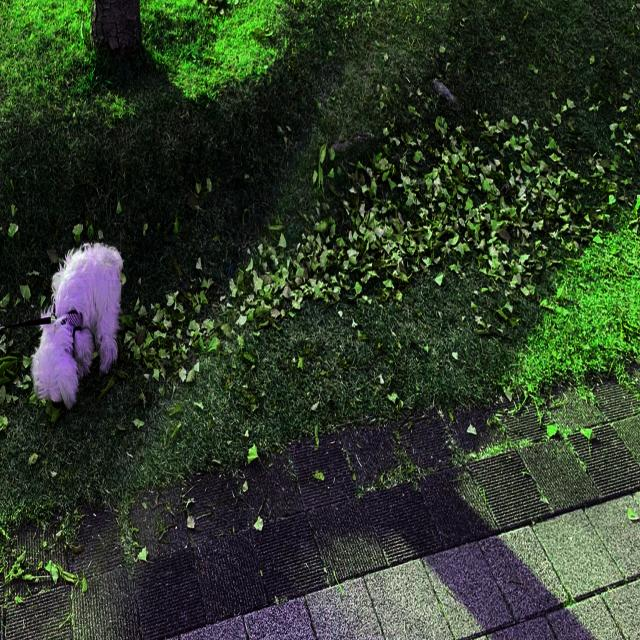Dog: (30, 242, 124, 409)
